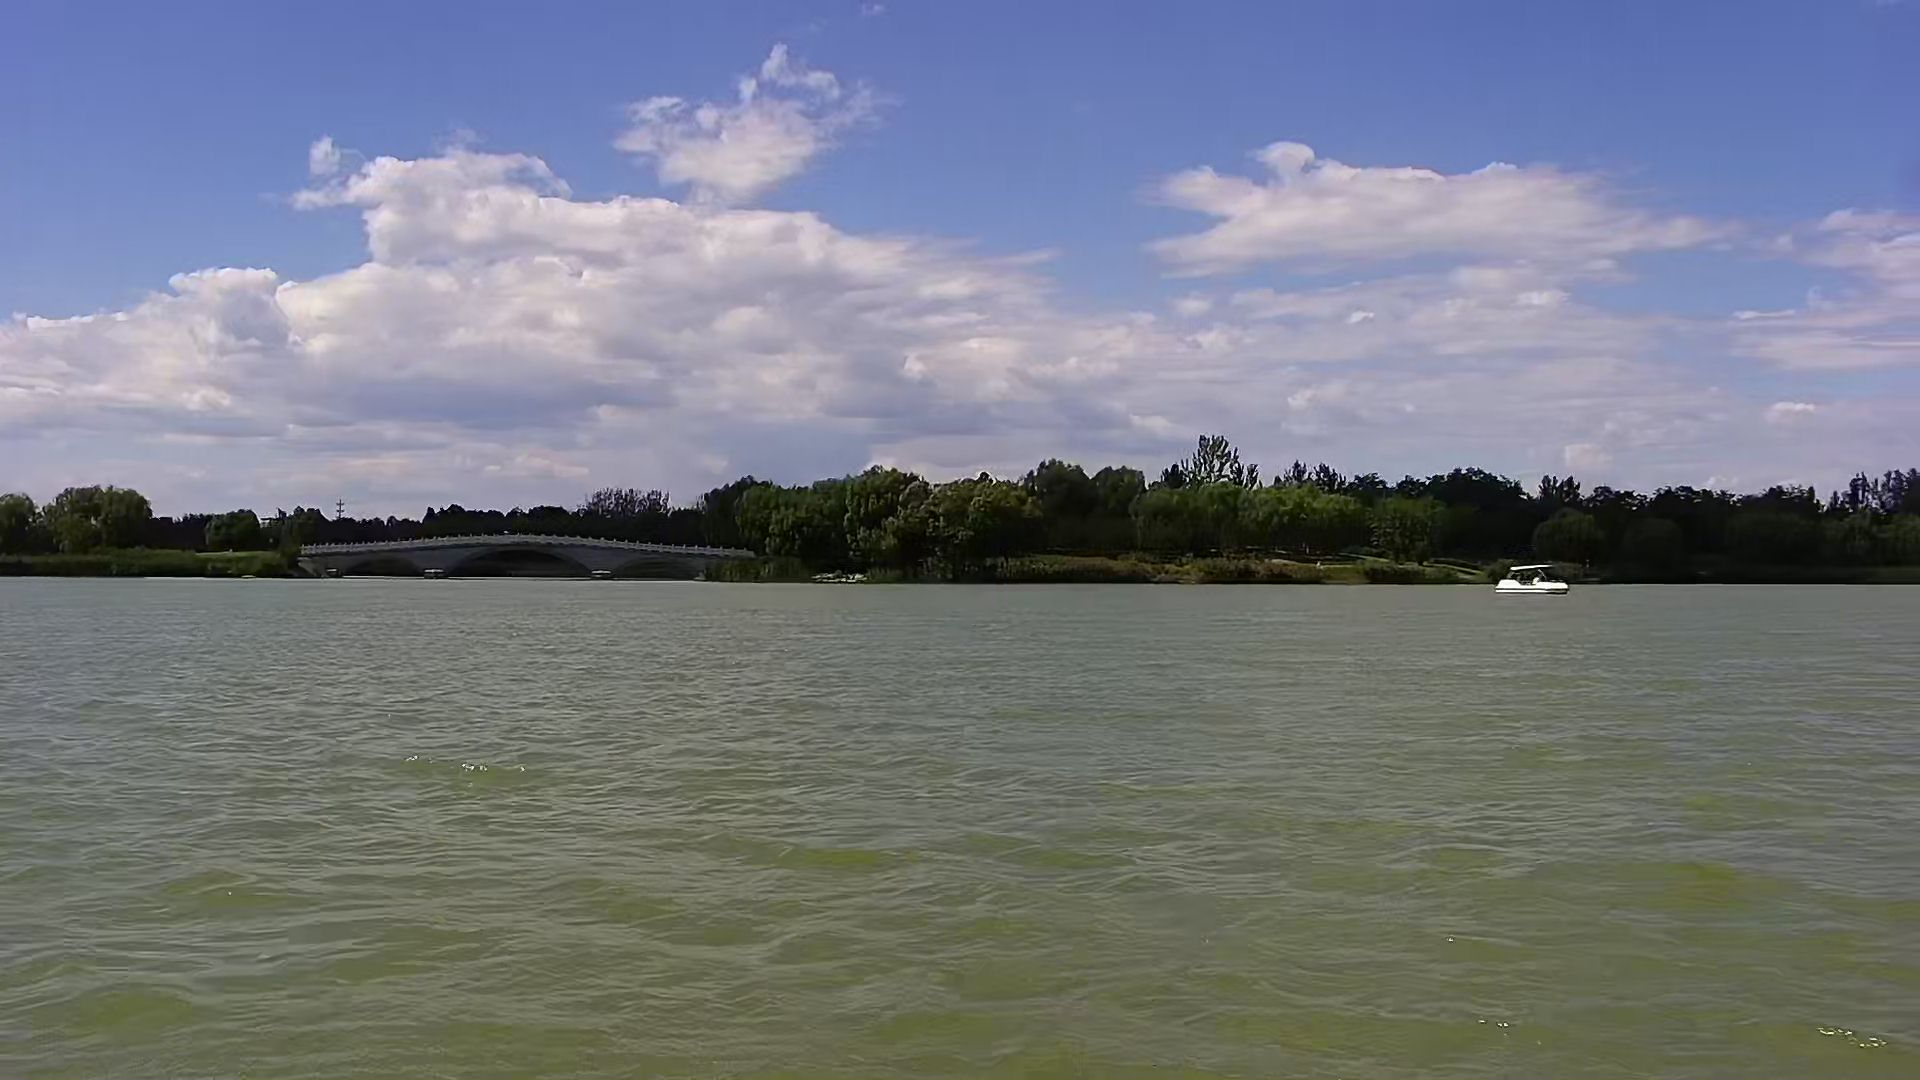boat: (1491, 556, 1572, 603)
bridge: (293, 527, 754, 588)
